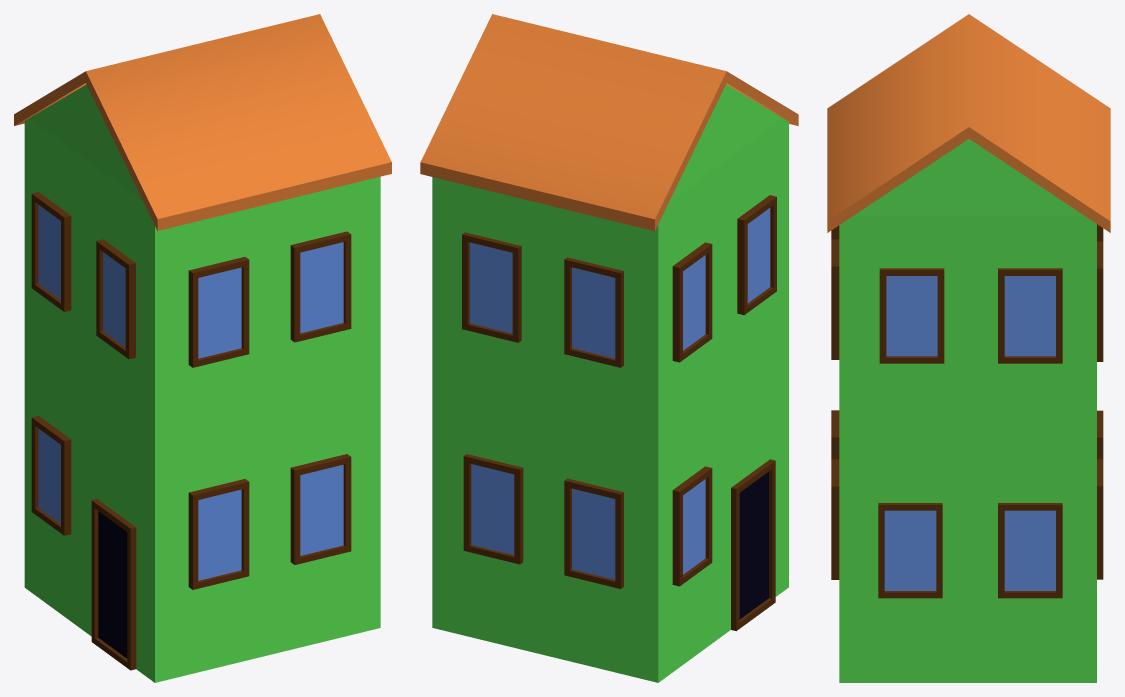
Rendered from Haus_3.fbx.
3 renders of one model, left to right at view 1: azimuth 30°, elevation 25°; view 2: azimuth 150°, elevation 25°; view 3: azimuth 270°, elevation 25°, orthographic.
Parts seen in each view (by area): view 1: Wand003, Wand004, Dach003, Dachwand002, Tür005, Fenster013, Fenster014, Fenster015, Fenster009, Tür004, Fensterrahmen015, Fensterrahmen009 (+8 smaller); view 2: Wand003, Wand004, Dach003, Dachwand002, Tür005, Fenster017, Fenster018, Fenster010, Fenster016, Tür004, Fensterrahmen010, Fensterrahmen018 (+8 smaller); view 3: Wand004, Wand003, Dach003, Dachwand_004, Fenster020, Fenster022, Fenster019, Fenster021, Fensterrahmen022, Fensterrahmen019, Fensterrahmen020, Fensterrahmen021 (+5 smaller).
Part boxes in pixels (left/top/right/bottom): Wand003: left=24, top=351, right=380, bottom=682; Wand004: left=24, top=118, right=380, bottom=446; Dach003: left=14, top=14, right=391, bottom=230; Dachwand002: left=29, top=84, right=142, bottom=201; Tür005: left=98, top=511, right=127, bottom=658; Fenster013: left=198, top=489, right=241, bottom=580; Fenster014: left=198, top=267, right=241, bottom=358; Fenster015: left=300, top=242, right=343, bottom=333; Fenster009: left=300, top=464, right=343, bottom=555; Tür004: left=91, top=499, right=136, bottom=670; Fensterrahmen015: left=290, top=231, right=351, bottom=342; Fensterrahmen009: left=290, top=454, right=351, bottom=564; Wand003: left=432, top=351, right=788, bottom=682; Wand004: left=432, top=118, right=788, bottom=446; Dach003: left=420, top=14, right=798, bottom=231; Dachwand002: left=669, top=84, right=782, bottom=201; Tür005: left=739, top=471, right=768, bottom=619; Fenster017: left=572, top=267, right=615, bottom=358; Fenster018: left=469, top=242, right=512, bottom=333; Fenster010: left=471, top=464, right=514, bottom=554; Fenster016: left=572, top=488, right=615, bottom=579; Tür004: left=731, top=459, right=775, bottom=631; Fensterrahmen010: left=463, top=454, right=523, bottom=564; Fensterrahmen018: left=462, top=232, right=521, bottom=342; Wand004: left=839, top=215, right=1096, bottom=449; Wand003: left=839, top=449, right=1096, bottom=682; Dach003: left=827, top=14, right=1110, bottom=232; Dachwand_004: left=854, top=139, right=1083, bottom=215; Fenster020: left=884, top=510, right=936, bottom=590; Fenster022: left=886, top=276, right=937, bottom=356; Fenster019: left=1004, top=510, right=1055, bottom=590; Fenster021: left=1004, top=276, right=1055, bottom=356; Fensterrahmen022: left=879, top=268, right=944, bottom=363; Fensterrahmen019: left=998, top=503, right=1062, bottom=598; Fensterrahmen020: left=878, top=503, right=942, bottom=598; Fensterrahmen021: left=998, top=268, right=1062, bottom=363.
Size of the model in its own units: 211 by 478 by 220.
